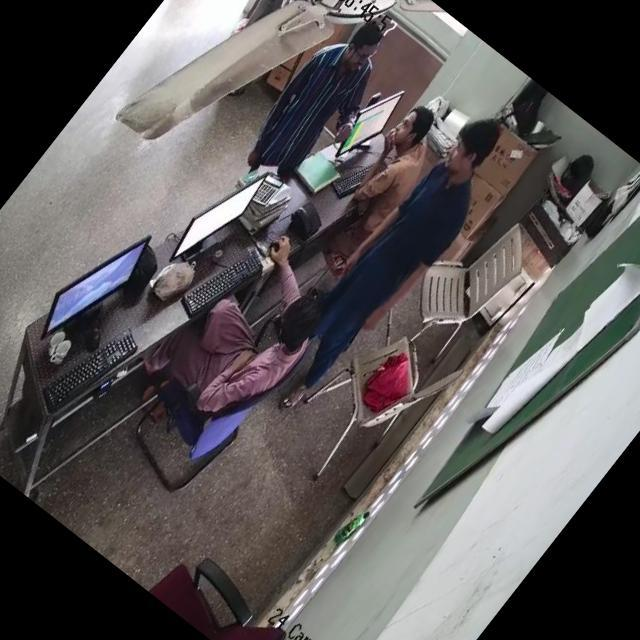person: (264, 102, 519, 410), (152, 259, 329, 445), (250, 12, 394, 174), (328, 98, 462, 246)
